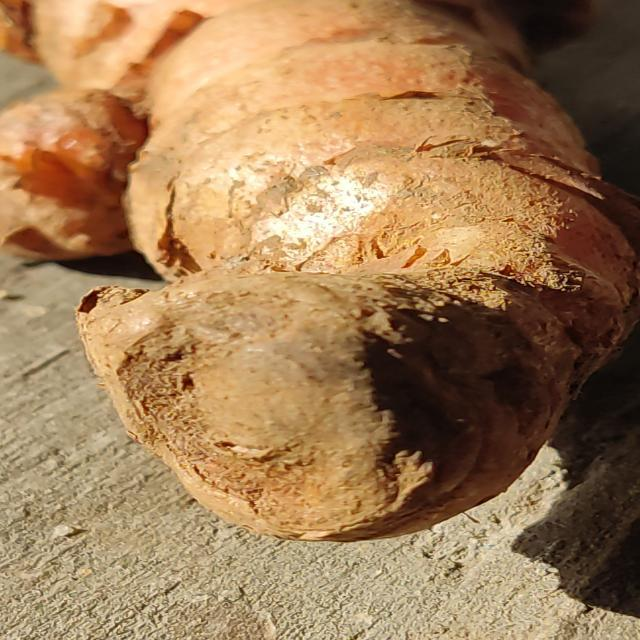ginger: (6, 0, 640, 509)
